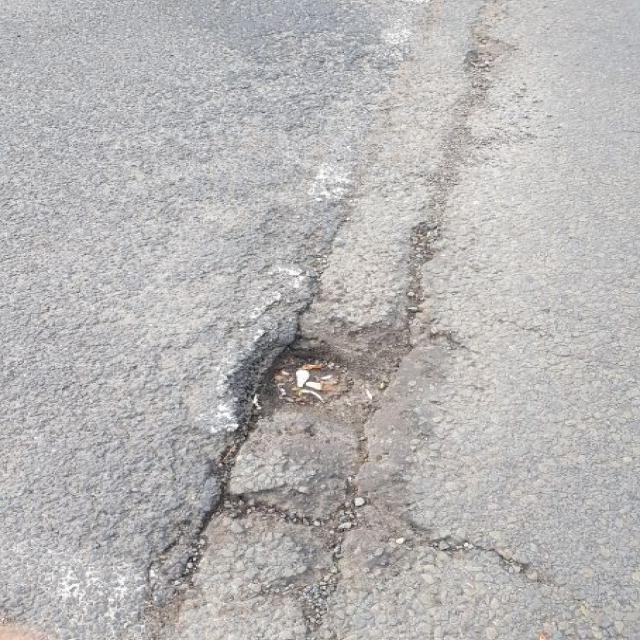Pothole: (192, 322, 462, 534)
